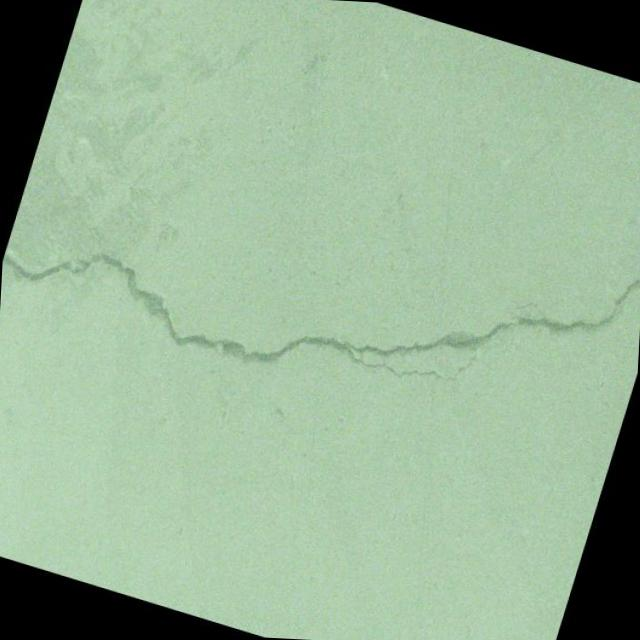crack: (0, 84, 640, 479), (181, 0, 274, 191)
